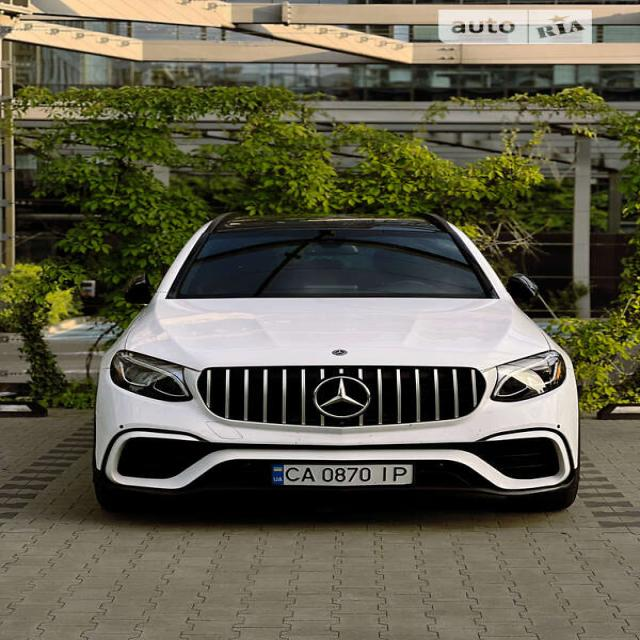plate: (271, 455, 422, 493)
